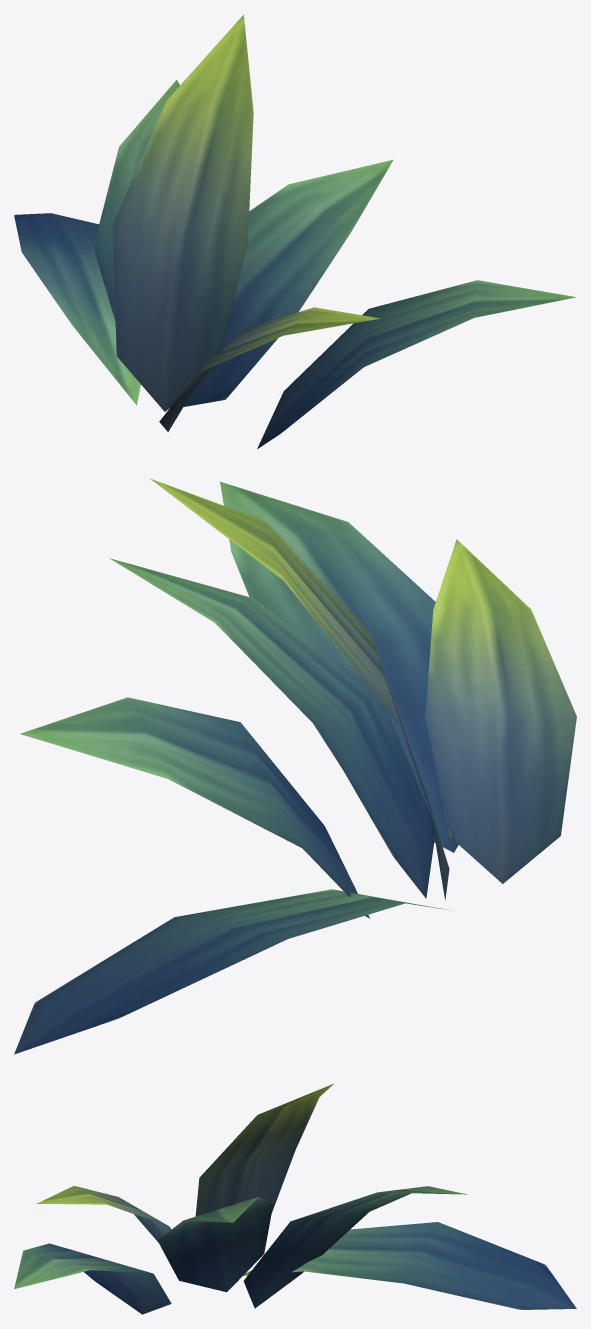
Rendered from scenes_cave_grass01.FBX.
The picture shows the model from 3 angles, top to bottom: view 1: azimuth 30°, elevation 25°; view 2: azimuth 150°, elevation 25°; view 3: azimuth 270°, elevation 25°; orthographic projection. The views are drawn at different scales.
Visible parts, largest first — view 1: scenes_cave_grass01; view 2: scenes_cave_grass01; view 3: scenes_cave_grass01.
Boxes of the visible parts, x1,y1,x2,y2 form: scenes_cave_grass01: (14,14,576,448); scenes_cave_grass01: (14,478,576,1054); scenes_cave_grass01: (14,1083,576,1314).
Size of the model in its own units: 121 by 114 by 214.
